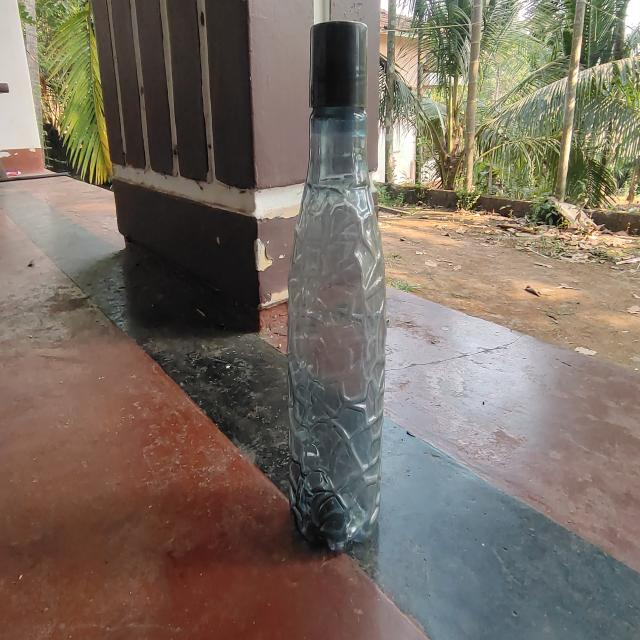plastic: (282, 16, 392, 550)
